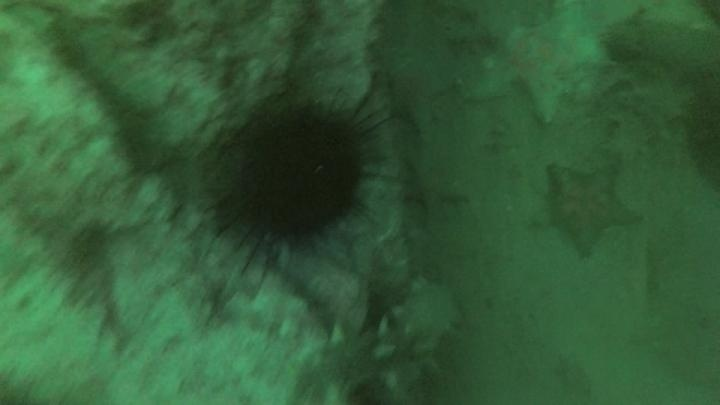echinus: (207, 91, 388, 265)
holothurian: (286, 281, 468, 403)
starfish: (462, 7, 616, 126), (539, 158, 644, 258), (397, 153, 471, 223)
